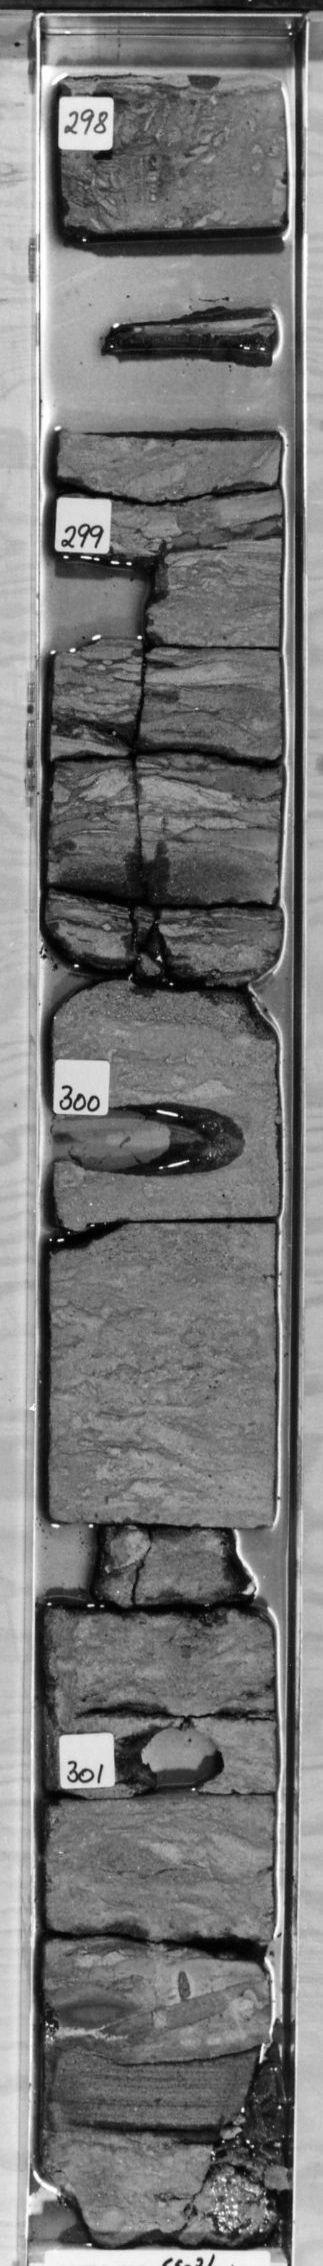hplug: (58, 1098, 257, 1178), (111, 1727, 235, 1801)
scal: (65, 215, 283, 337), (56, 337, 278, 445)
vplug: (87, 548, 172, 665), (50, 1512, 115, 1621)
